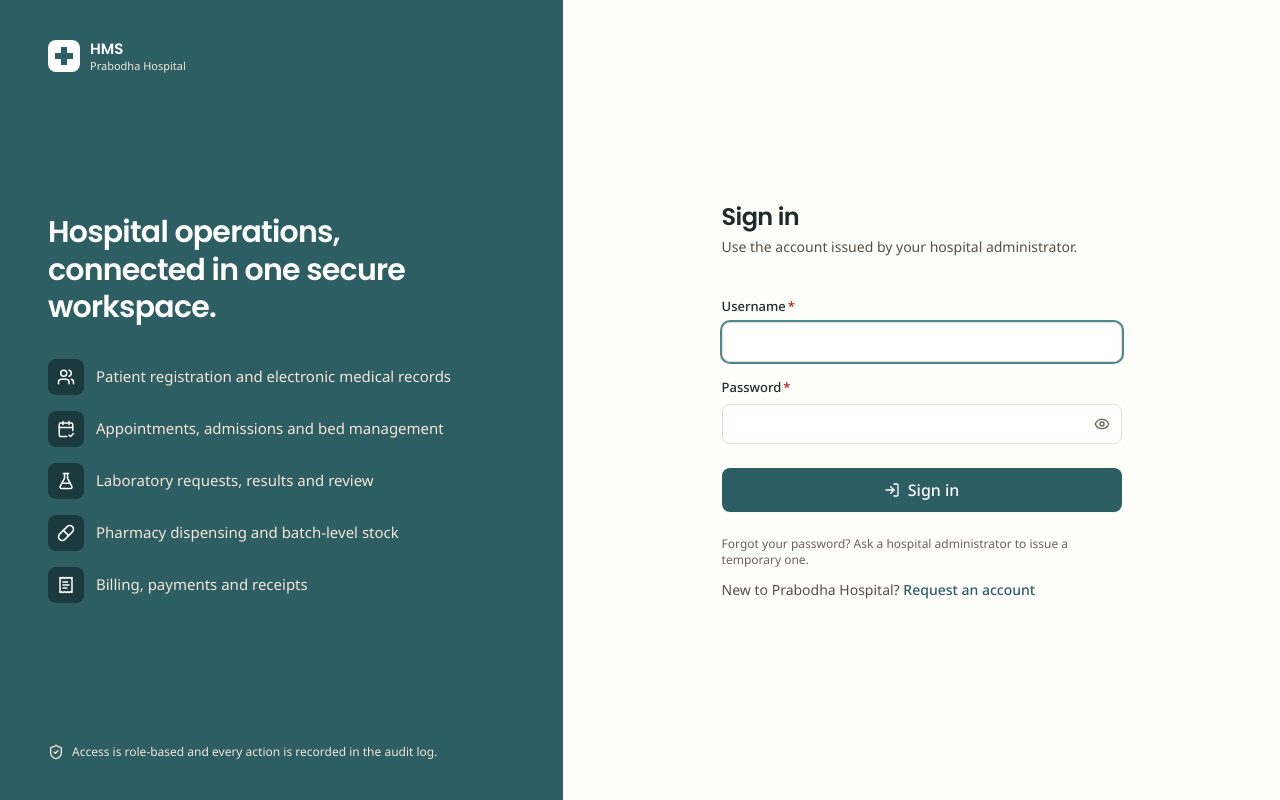
Scenario: LoginPage › shows inline errors and does not call the API when fields are empty
Step 1. Click the button "Sign in" → [922, 490], box left=722, top=468, right=1122, bottom=512
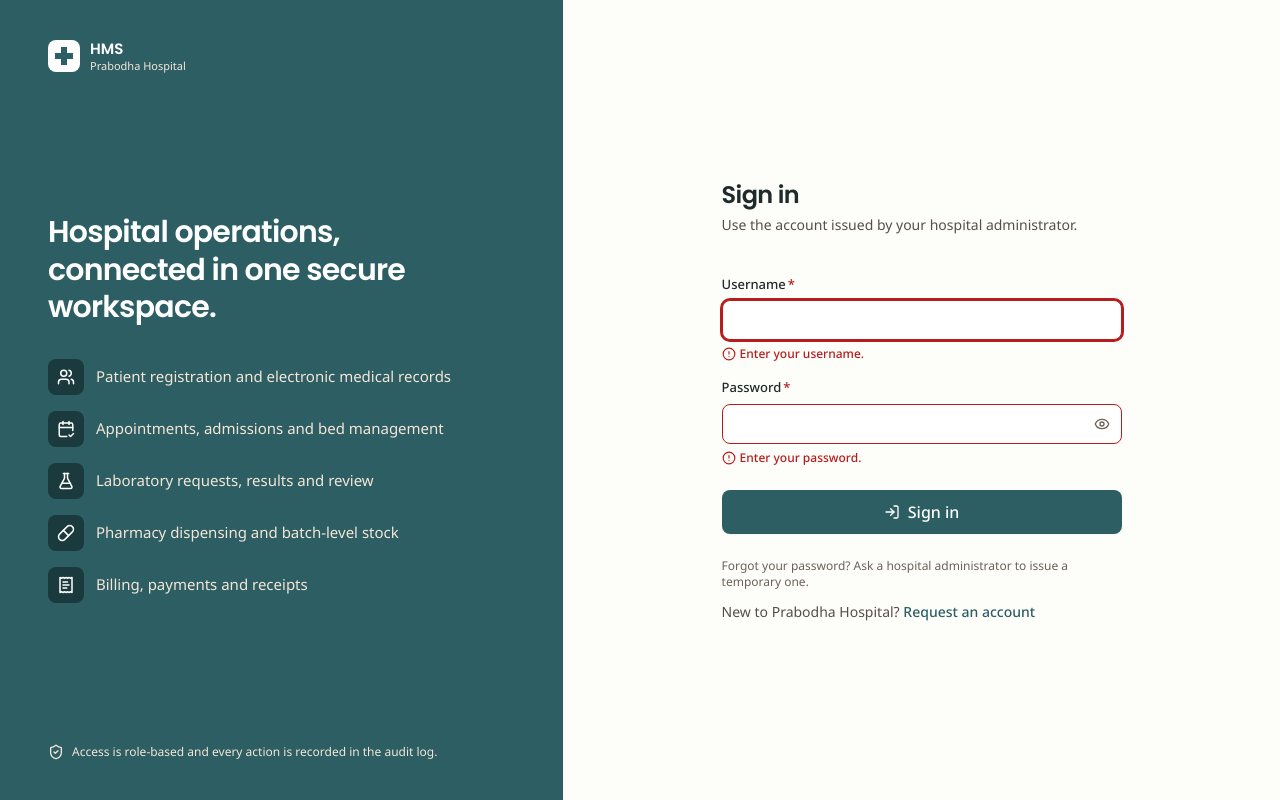
expect the text "Enter your username." is shown: met, box left=722, top=345, right=864, bottom=362
expect the text "Enter your password." is shown: met, box left=722, top=448, right=861, bottom=466
